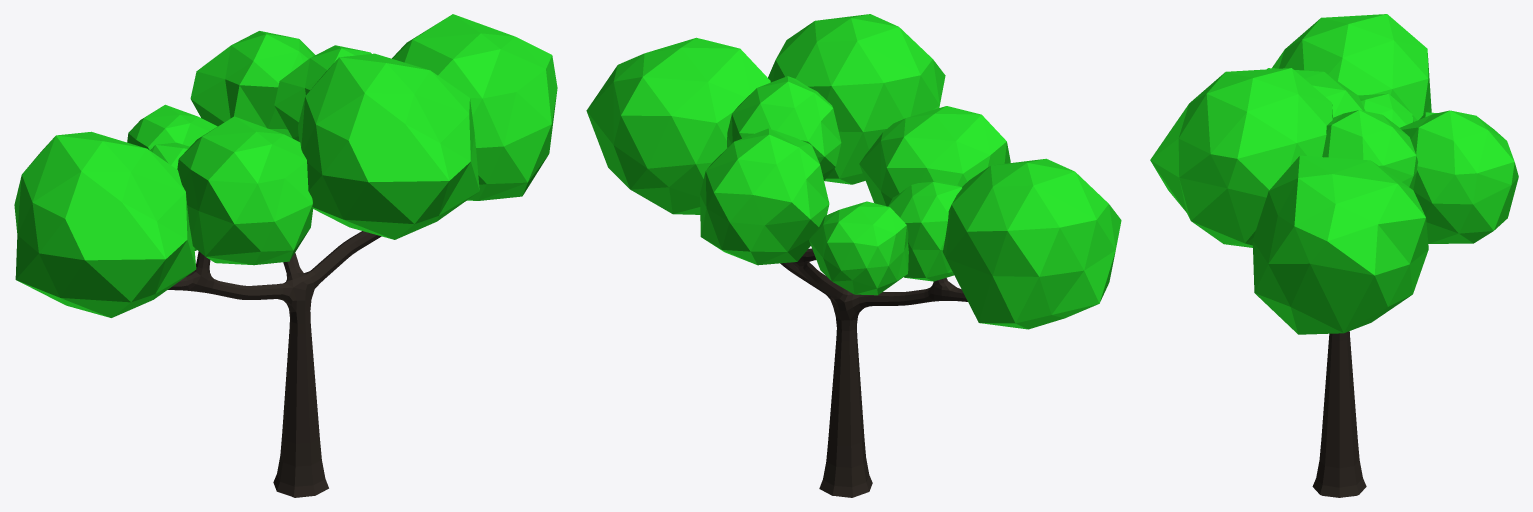
The model's file is Pohon Lowpoly_1_Colored.fbx.
The picture shows the model from 3 angles, left to right: view 1: azimuth 30°, elevation 25°; view 2: azimuth 150°, elevation 25°; view 3: azimuth 270°, elevation 25°; orthographic projection. The views are drawn at different scales.
Visible parts, largest first — view 1: Icosphere.002, Plane; view 2: Icosphere.002, Plane; view 3: Icosphere.002, Plane.
Part boxes in pixels (bbox=[...]): Icosphere.002: bbox=[14, 14, 557, 317]; Plane: bbox=[168, 231, 381, 497]; Icosphere.002: bbox=[586, 14, 1121, 329]; Plane: bbox=[780, 248, 967, 497]; Icosphere.002: bbox=[1150, 14, 1518, 334]; Plane: bbox=[1312, 331, 1366, 497].
Size of the model in its own units: 1641 by 1333 by 1036.
